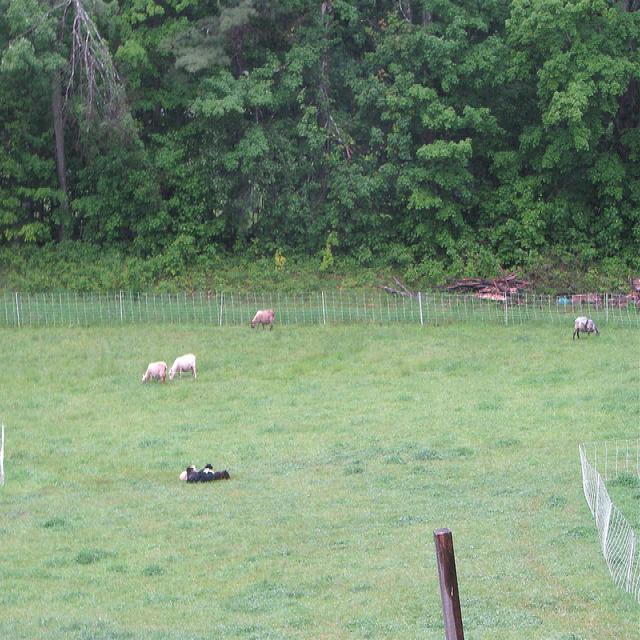cow: (572, 317, 597, 336), (212, 467, 229, 477), (185, 464, 195, 480)
